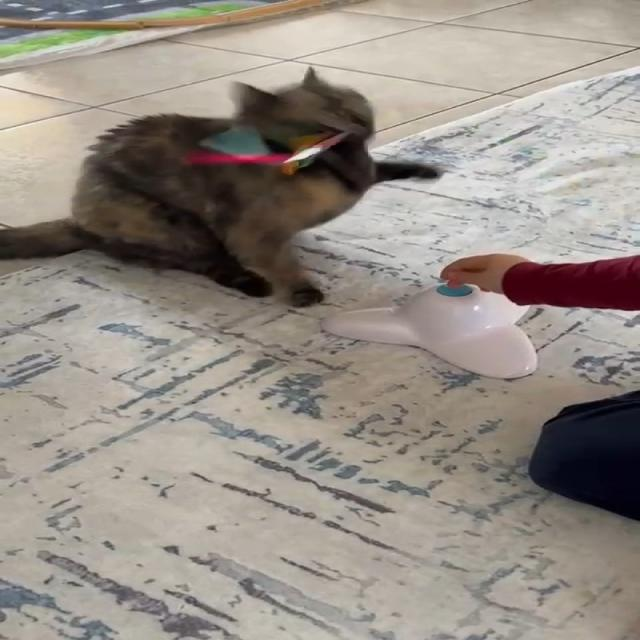authorized: (0, 65, 441, 308)
